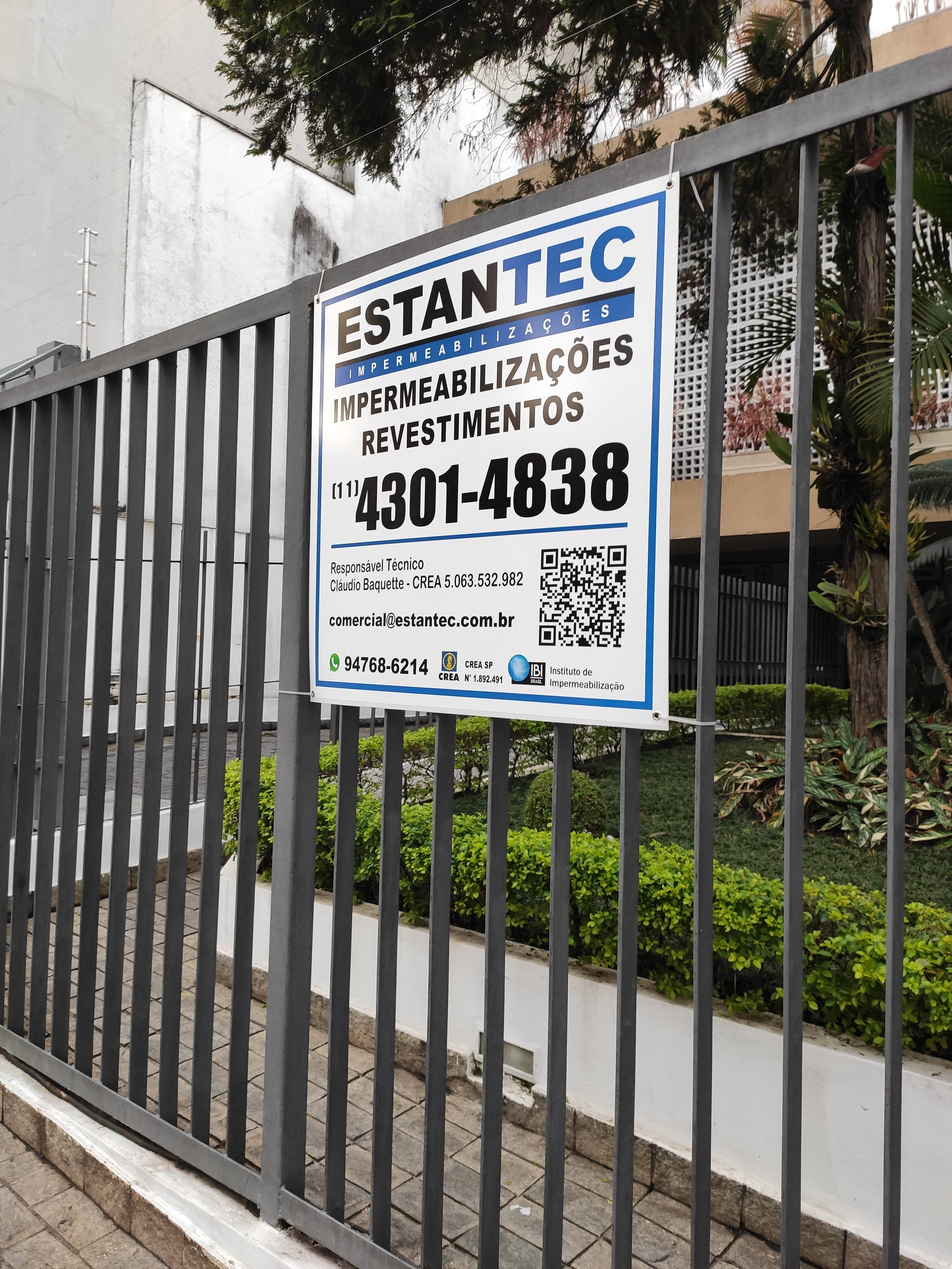QR-CODE: (538, 545, 628, 647)
